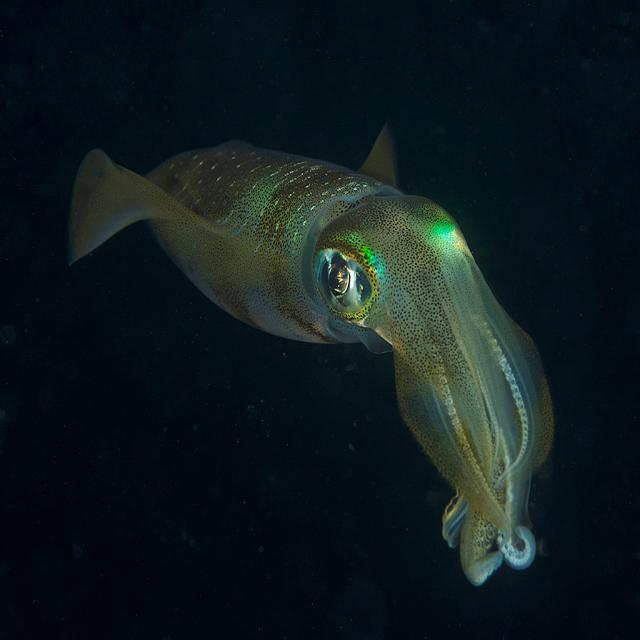SQUID: (50, 118, 558, 604)
